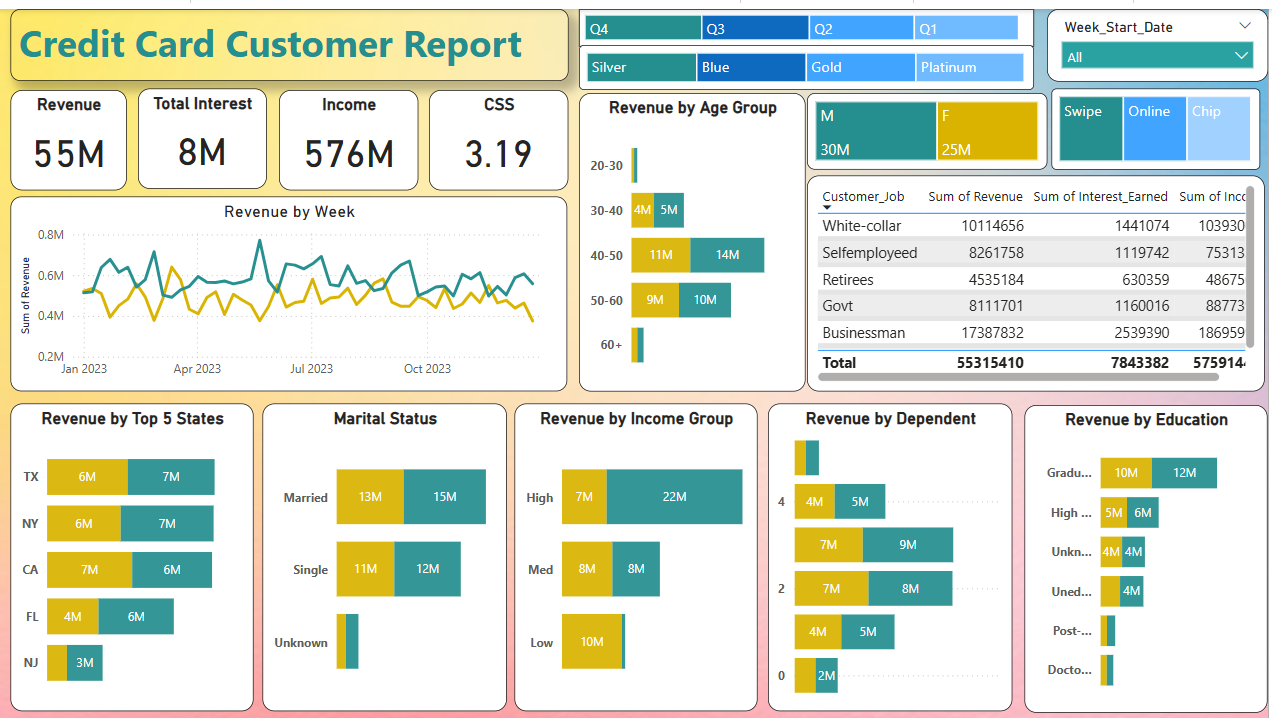

What the dashboard file says about the page in this screenshot:
{"tool":"powerbi","page":{"name":"Customer","canvas":[1280,720],"ordinal":1},"visuals":[{"type":"textbox","box":[10.6,0,563.3,72.7],"z":0},{"type":"barChart","title":"Revenue by Income Group","fields":{"Y":["Sum(credit_card.Revenue)"],"Category":["customer.IncomeGroup"],"Series":["customer.Gender"]},"box":[519.7,398.5,245.5,310.6],"z":1000},{"type":"tableEx","fields":{"Values":["customer.Customer_Job","Sum(credit_card.Revenue)","Sum(credit_card.Interest_Earned)","Sum(customer.Income)"]},"box":[815.2,168.2,462.1,218.2],"z":2000},{"type":"card","title":"Revenue","fields":{"Values":["Sum(credit_card.Revenue)"]},"box":[10.9,81.2,117,101],"z":3000},{"type":"card","title":"Total Interest","fields":{"Values":["Sum(credit_card.Interest_Earned)"]},"box":[139.1,79.7,129.7,101.6],"z":4000},{"type":"card","title":"Income","fields":{"Values":["Sum(customer.Income)"]},"box":[281.2,81.2,140.6,101.6],"z":5000},{"type":"card","title":"CSS","fields":{"Values":["Avg(customer.Cust_Satisfaction_Score)"]},"box":[432.8,81.2,140.6,101.6],"z":6000},{"type":"slicer","fields":{"Values":["credit_card.Week_Start_Date"]},"box":[1056.2,0,223.4,73.4],"z":7000},{"type":"treemap","fields":{"Group":["credit_card.Qtr"],"Values":["Avg(credit_card.Client_Num)"]},"box":[584.8,0,459.1,37.9],"z":8000},{"type":"treemap","fields":{"Values":["Avg(credit_card.Client_Num)"],"Group":["credit_card.Card_Category"]},"box":[584.8,36.4,459.1,45.5],"z":9000},{"type":"lineChart","title":"Revenue by Week","fields":{"Y":["Sum(credit_card.Revenue)"],"Series":["customer.Gender"],"Category":["credit_card.Week_Start_Date.Variation.Date Hierarchy.Year","credit_card.Week_Start_Date.Variation.Date Hierarchy.Month","credit_card.Week_Start_Date.Variation.Date Hierarchy.Day"]},"box":[10.6,189.4,562.1,197],"z":10000},{"type":"treemap","fields":{"Group":["customer.Gender"],"Values":["Sum(credit_card.Revenue)"]},"box":[815.2,84.8,242.4,77.3],"z":11000},{"type":"barChart","title":"Revenue by Age Group","fields":{"Y":["Sum(credit_card.Revenue)"],"Category":["customer.AgeGroup"],"Series":["customer.Gender"]},"box":[584.8,84.8,228.8,301.5],"z":12000},{"type":"barChart","title":"Revenue by  Dependent","fields":{"Y":["Sum(credit_card.Revenue)"],"Category":["customer.Dependent_Count"],"Series":["customer.Gender"]},"box":[775.8,398.5,247,310.6],"z":13000},{"type":"barChart","title":"Revenue by  Education","fields":{"Y":["Sum(credit_card.Revenue)"],"Category":["customer.Education_Level"],"Series":["customer.Gender"]},"box":[1034.8,400,245.5,310.6],"z":14000},{"type":"barChart","title":"Revenue by Top 5 States","fields":{"Y":["Sum(credit_card.Revenue)"],"Category":["customer.state_cd"],"Series":["customer.Gender"]},"box":[10.6,398.5,245.5,310.6],"z":15000},{"type":"barChart","title":" Marital Status","fields":{"Y":["Sum(credit_card.Revenue)"],"Category":["customer.Marital_Status"],"Series":["customer.Gender"]},"box":[265.2,398.5,247,310.6],"z":16000},{"type":"treemap","fields":{"Values":["Avg(credit_card.Client_Num)"],"Group":["credit_card.Use Chip"]},"box":[1062.1,80.3,210.6,81.8],"z":17000}]}

Visuals, with their boxes in screenshot pixels (x1, y1, x2, y2), scaled from the page's 1280x720 canvas onto the 1272x718 screenshot:
textbox: <bbox>11, 0, 570, 72</bbox>
"Revenue by Income Group" barChart: <bbox>516, 397, 760, 707</bbox>
tableEx - customer.Customer_Job x Sum(credit_card.Revenue): <bbox>810, 168, 1269, 385</bbox>
"Revenue" card: <bbox>11, 81, 127, 182</bbox>
"Total Interest" card: <bbox>138, 79, 267, 181</bbox>
"Income" card: <bbox>279, 81, 419, 182</bbox>
"CSS" card: <bbox>430, 81, 570, 182</bbox>
slicer - credit_card.Week_Start_Date: <bbox>1050, 0, 1271, 73</bbox>
treemap - credit_card.Qtr x Avg(credit_card.Client_Num): <bbox>581, 0, 1037, 38</bbox>
treemap - Avg(credit_card.Client_Num) x credit_card.Card_Category: <bbox>581, 36, 1037, 82</bbox>
"Revenue by Week" lineChart: <bbox>11, 189, 569, 385</bbox>
treemap - customer.Gender x Sum(credit_card.Revenue): <bbox>810, 85, 1051, 162</bbox>
"Revenue by Age Group" barChart: <bbox>581, 85, 809, 385</bbox>
"Revenue by  Dependent" barChart: <bbox>771, 397, 1016, 707</bbox>
"Revenue by  Education" barChart: <bbox>1028, 399, 1271, 709</bbox>
"Revenue by Top 5 States" barChart: <bbox>11, 397, 254, 707</bbox>
" Marital Status" barChart: <bbox>264, 397, 509, 707</bbox>
treemap - Avg(credit_card.Client_Num) x credit_card.Use Chip: <bbox>1055, 80, 1265, 162</bbox>
